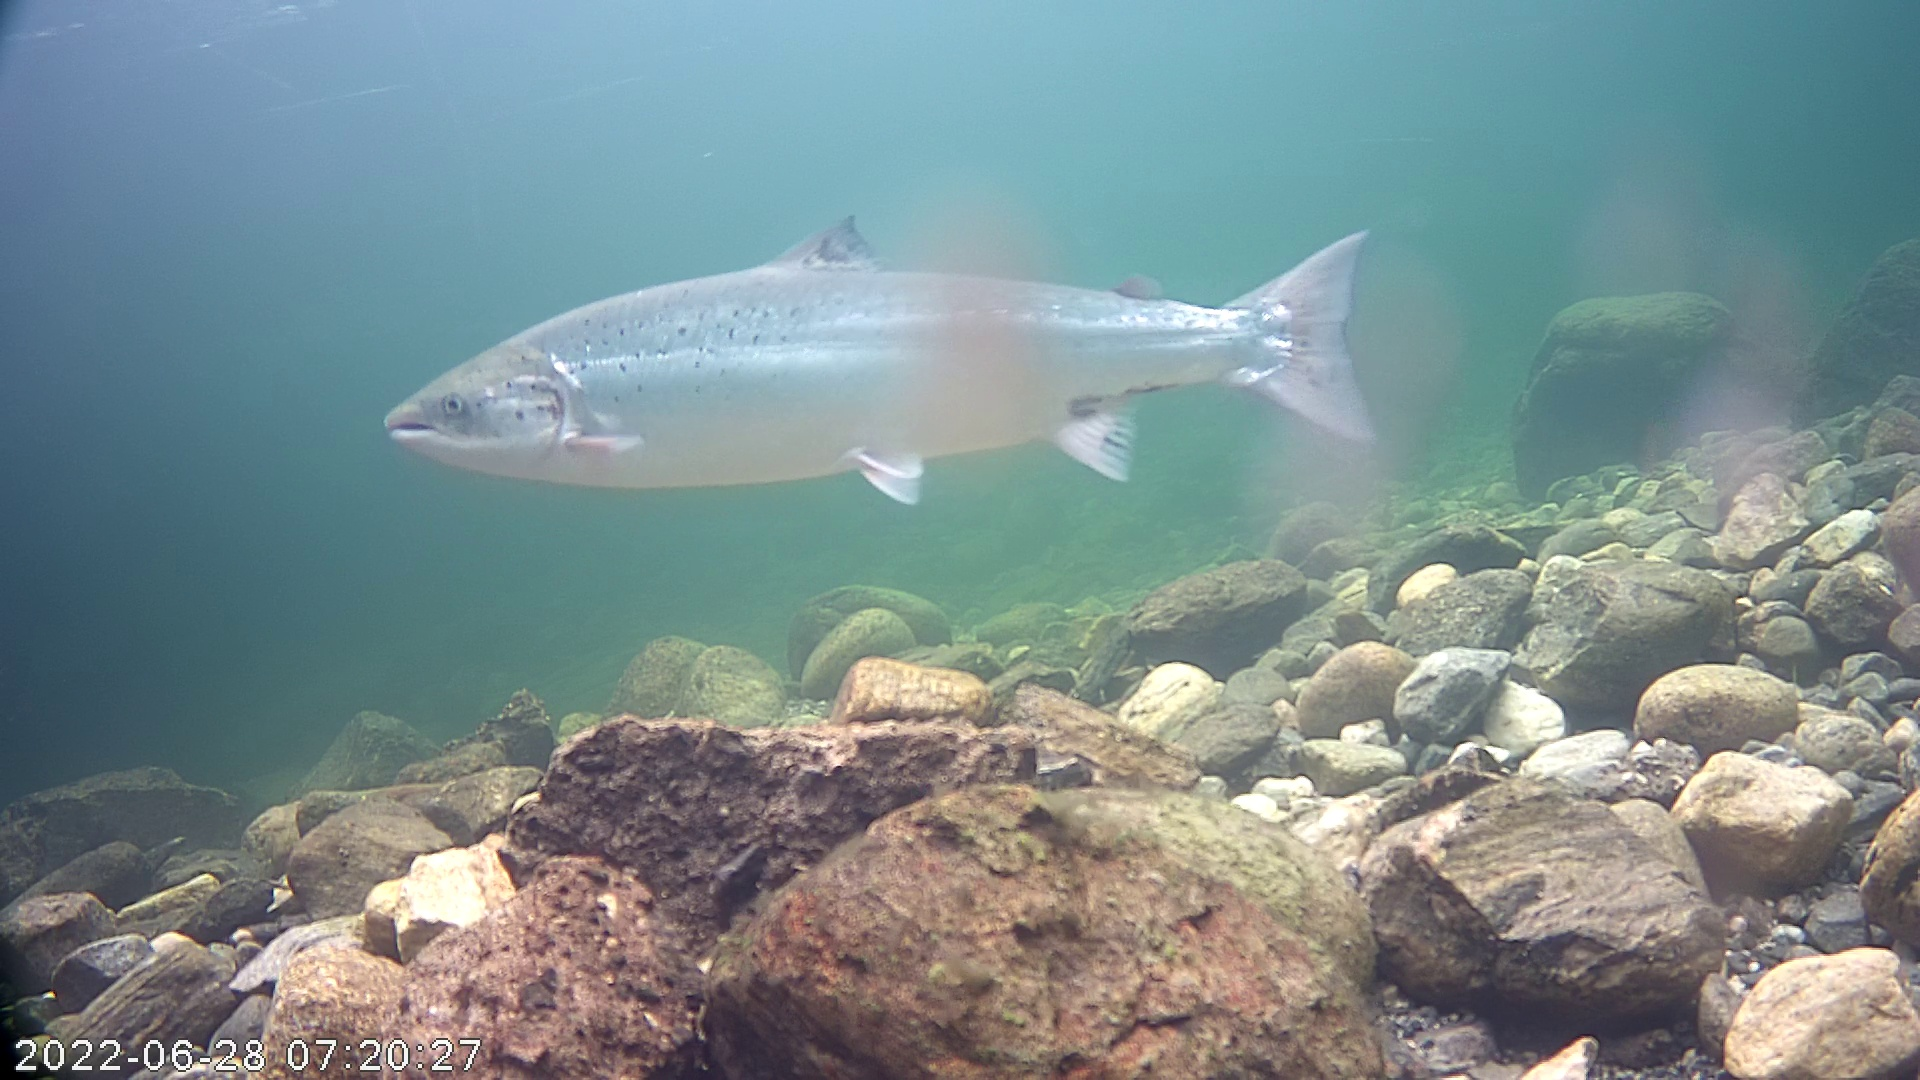salmon: (360, 113, 1427, 560)
